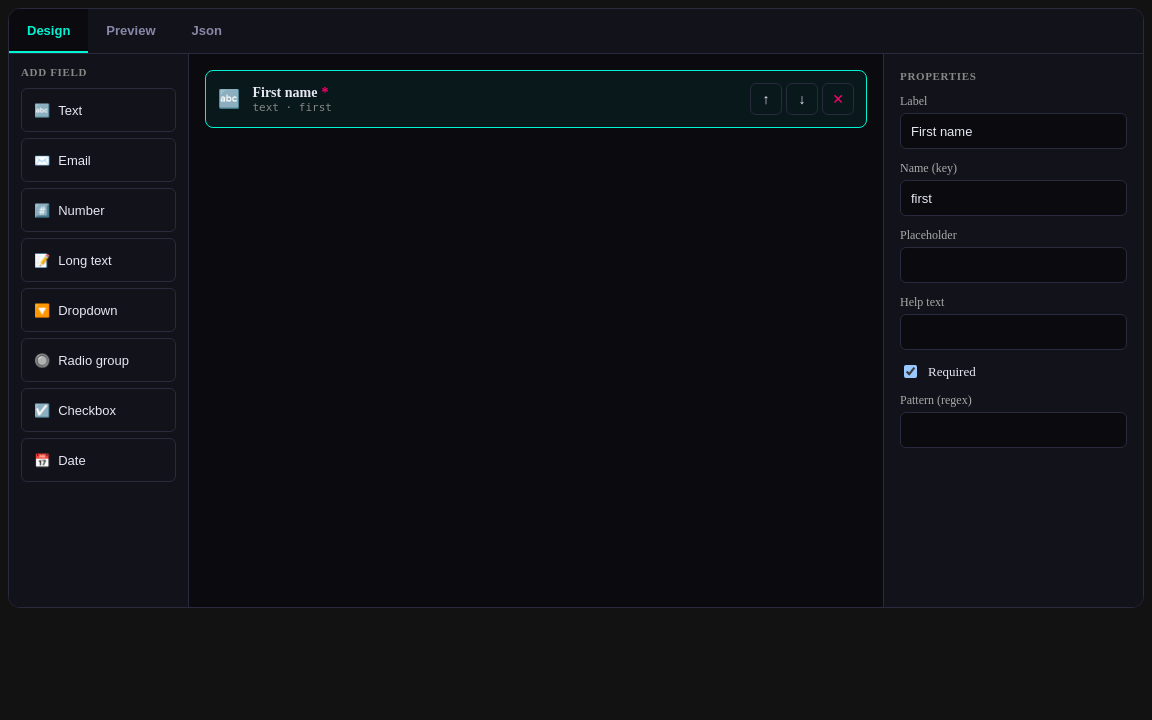
Test case: TkxFormBuilder › shows a validation error when submitting without required value
Click the tab with test id "tab-preview" at point(131, 31), box [88,9,174,53]
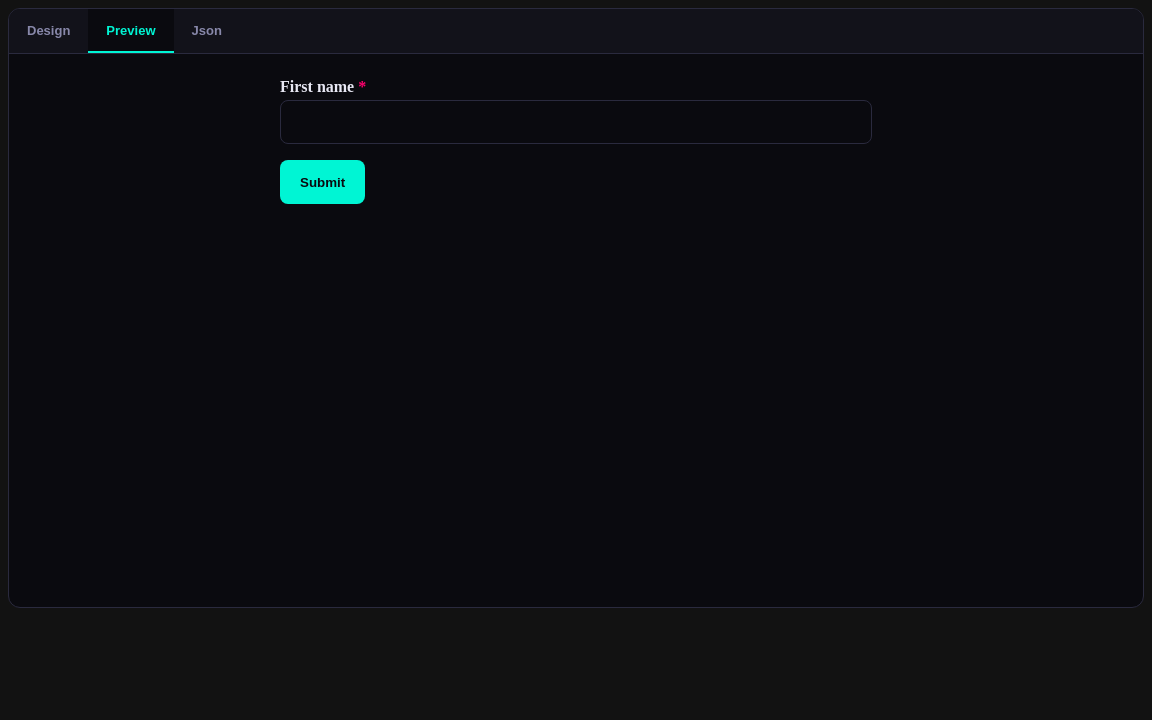
Click the button "Submit" at point(323, 182), box [280,160,365,204]
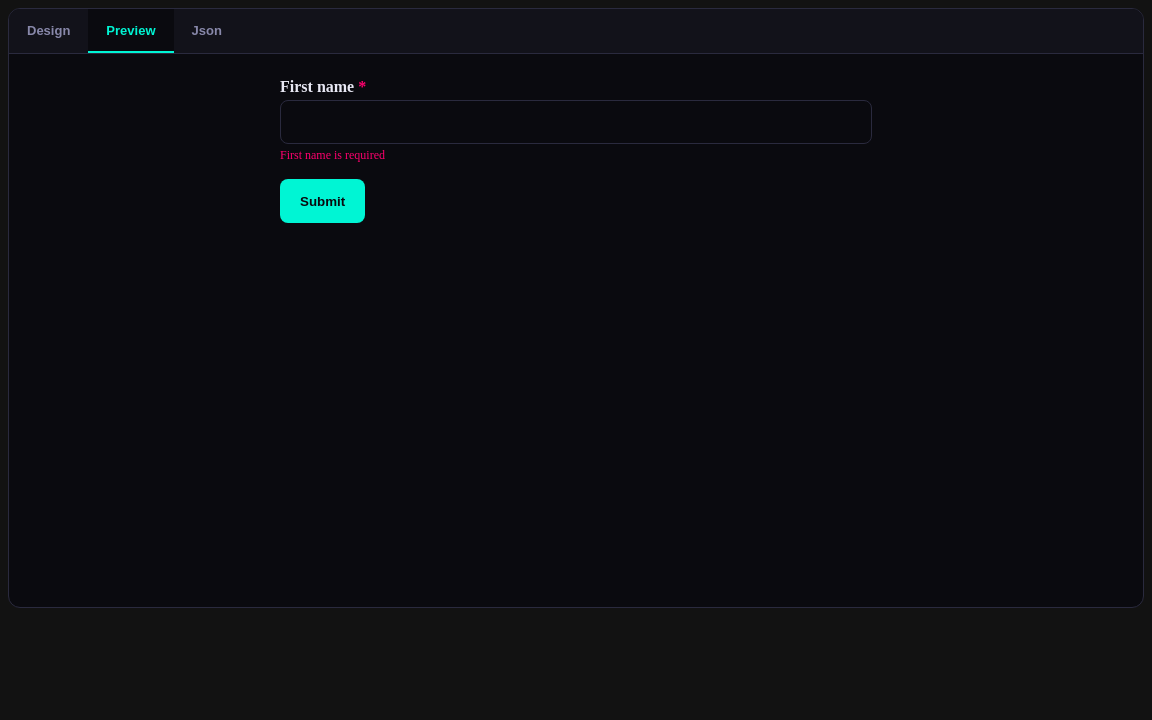
Result: the message shows "required" at [280,148,385,162]
